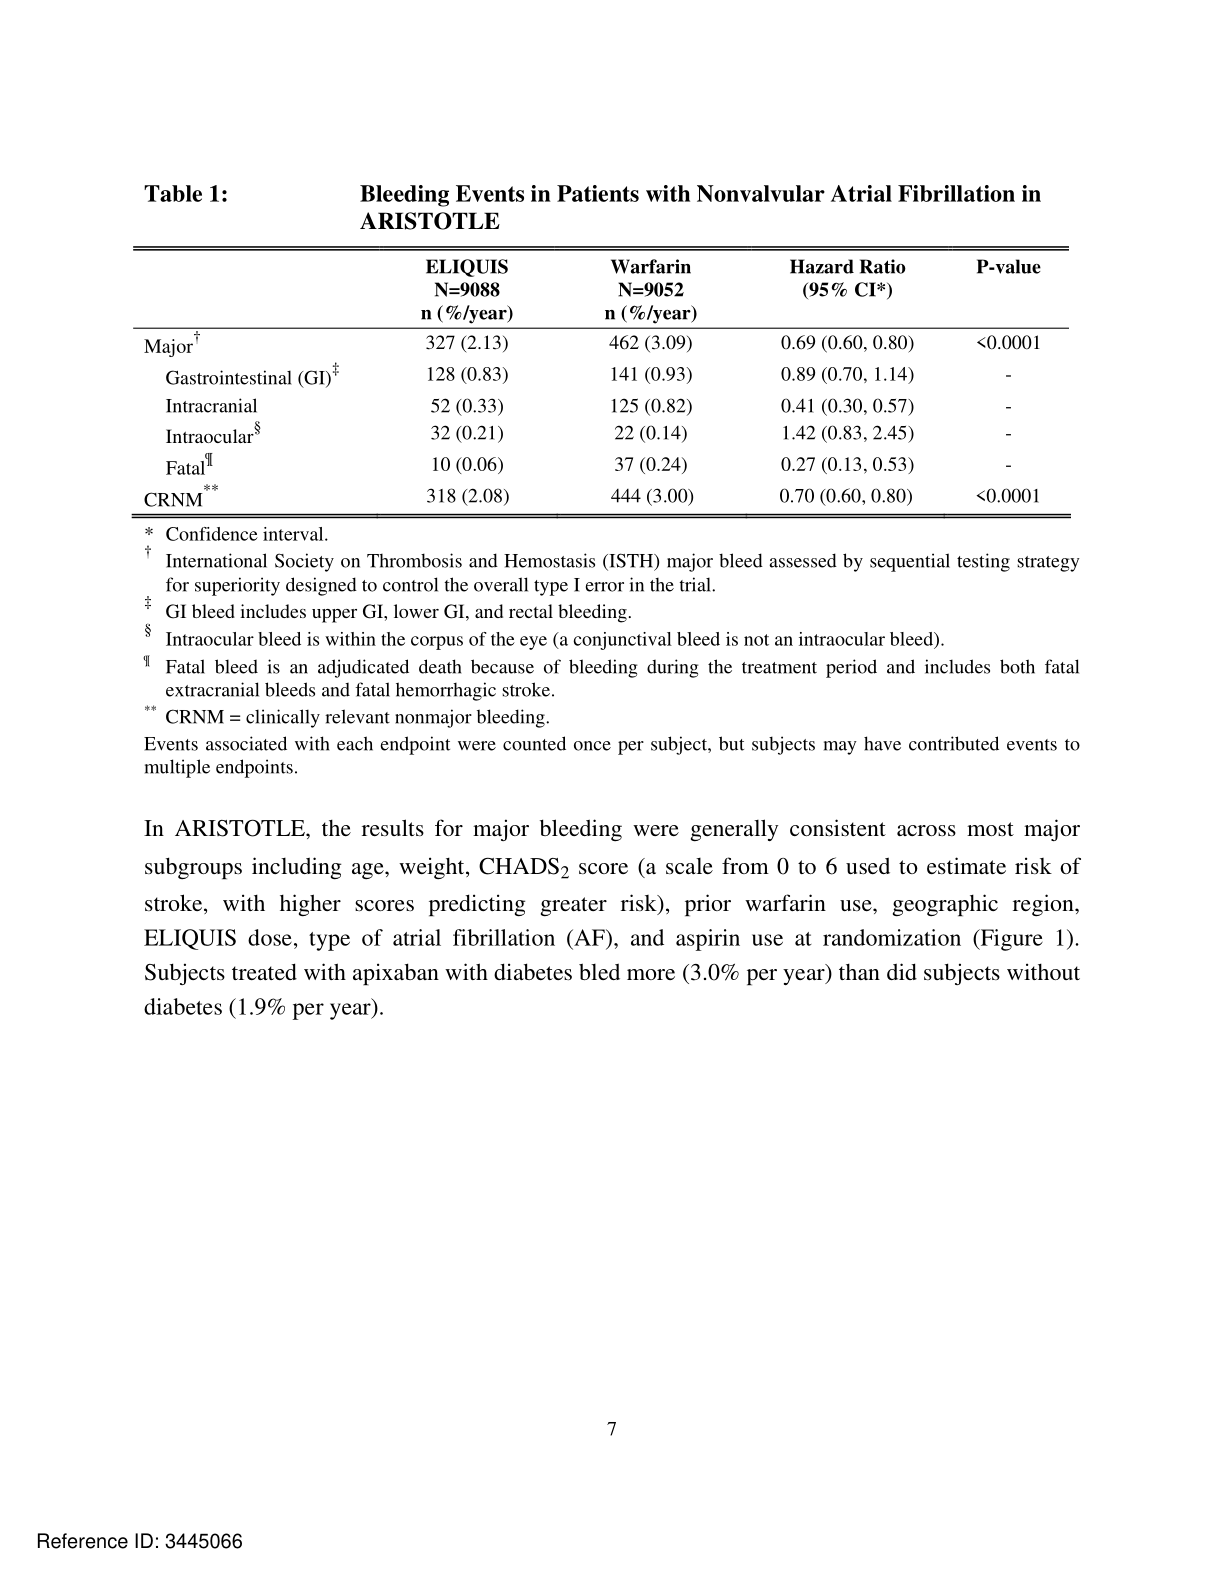partial_lined: (131, 243, 1074, 521)
